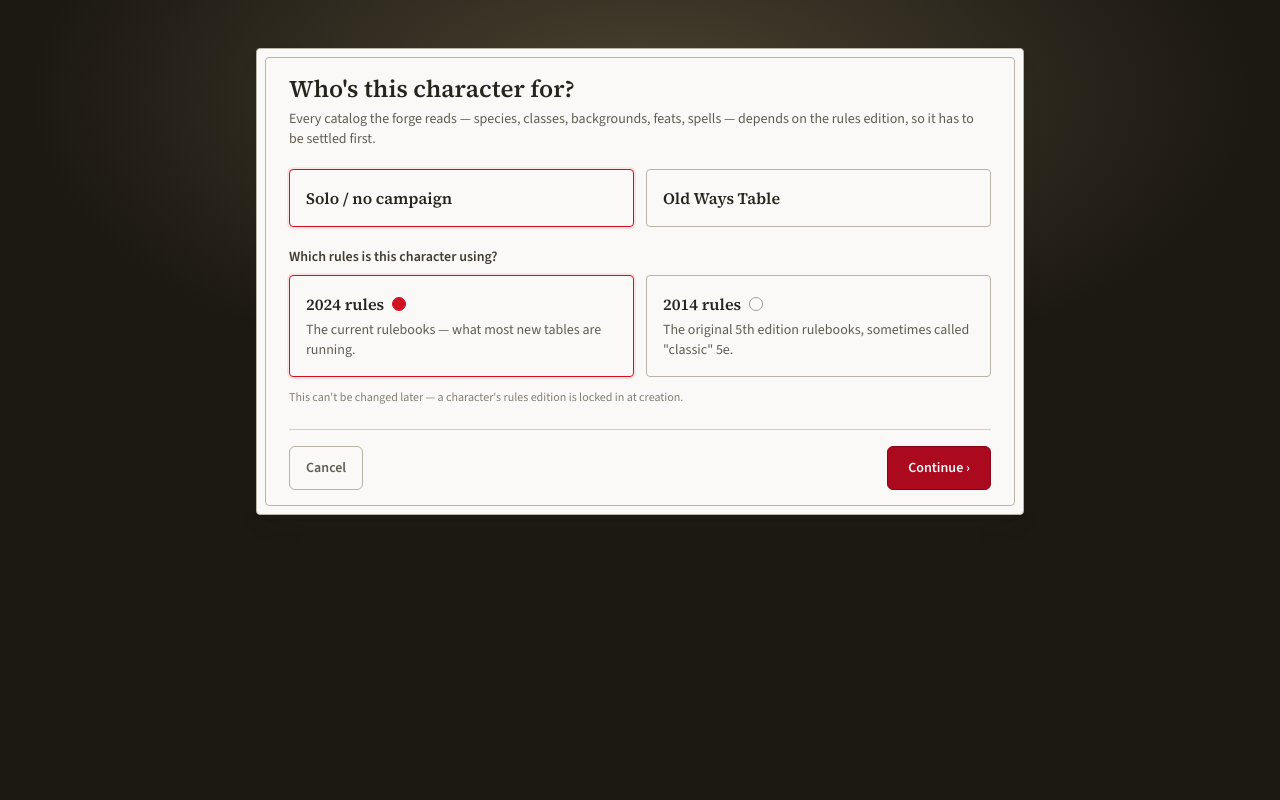
Scenario: CharacterCreatePage — subclass gate per edition (#1325) › offers a 2014 Cleric a subclass at creation
Click the radio button labelled "Old Ways Table": {"x": 722, "y": 198} [646, 169, 991, 227]
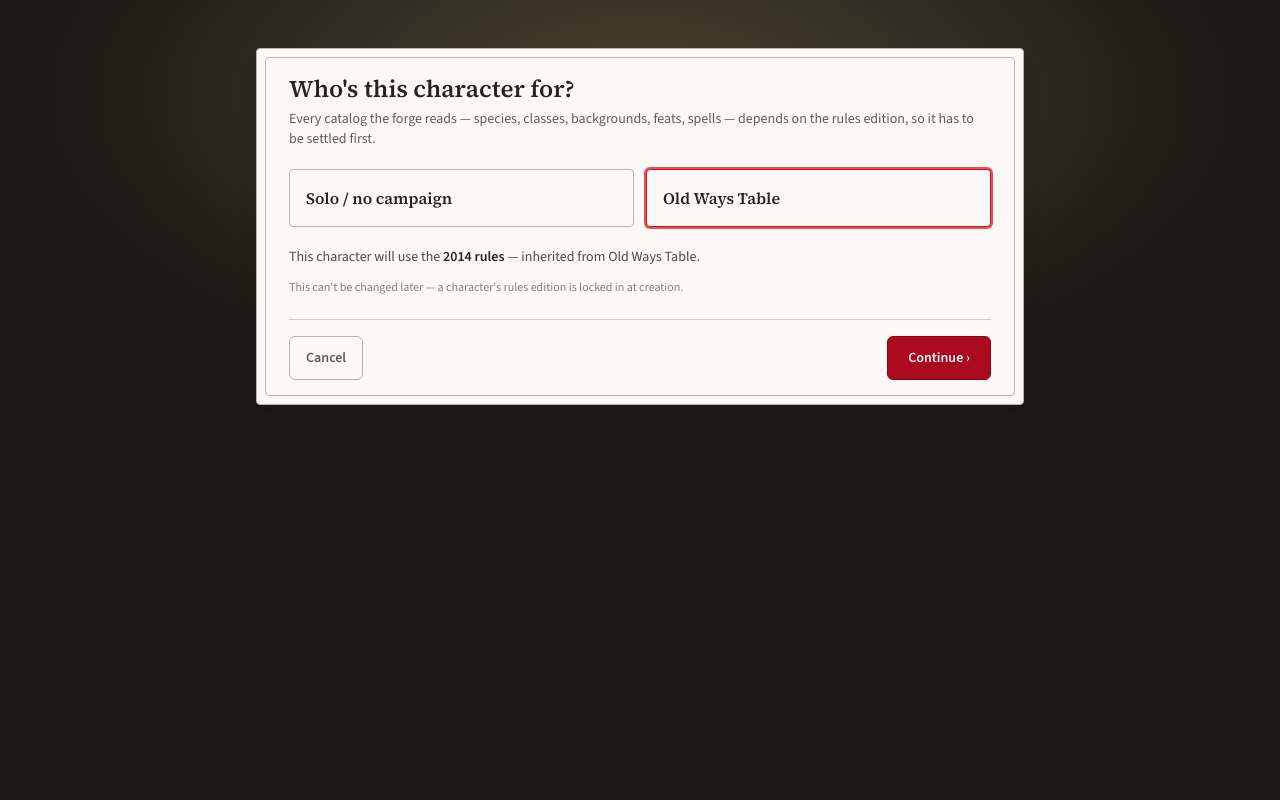
Click the button "Continue ›": {"x": 939, "y": 358} [887, 336, 991, 380]
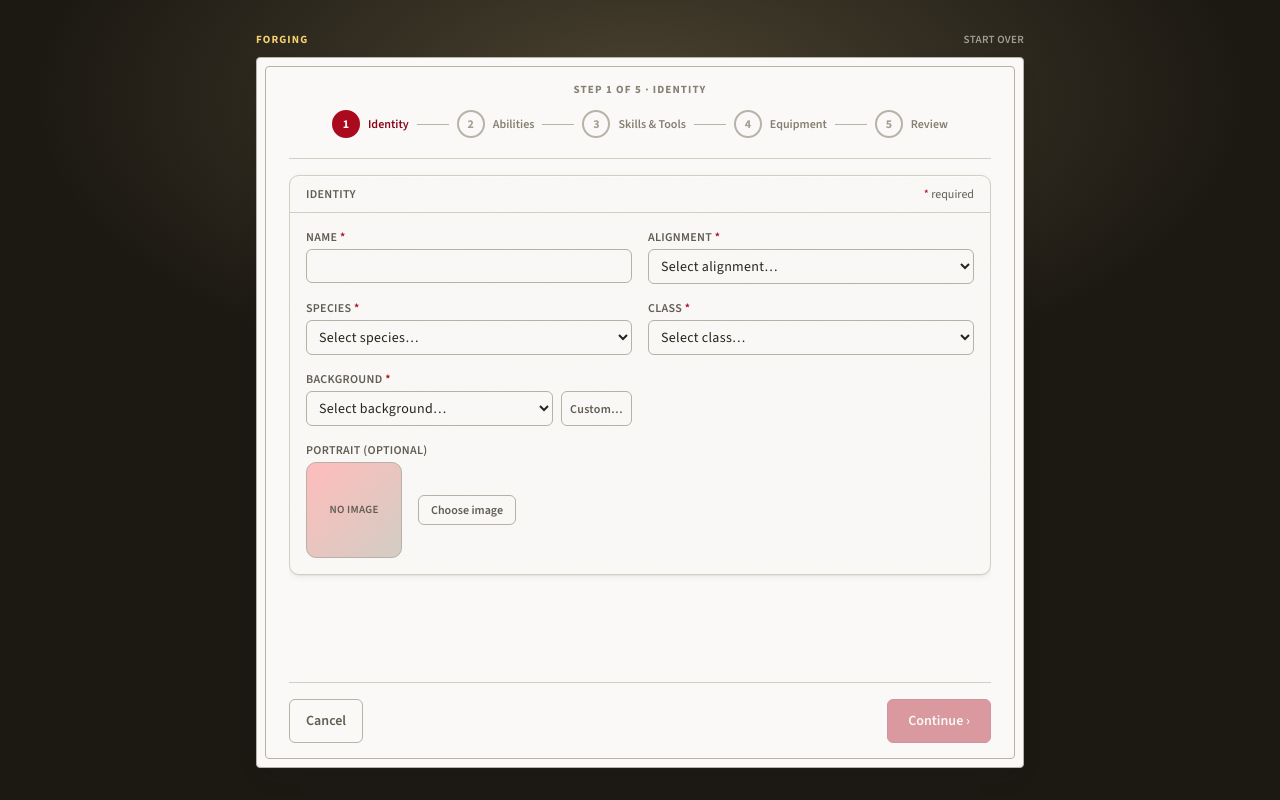
Select "Cleric" in the dropdown labelled "Class *": {"x": 811, "y": 338} [648, 320, 974, 355]
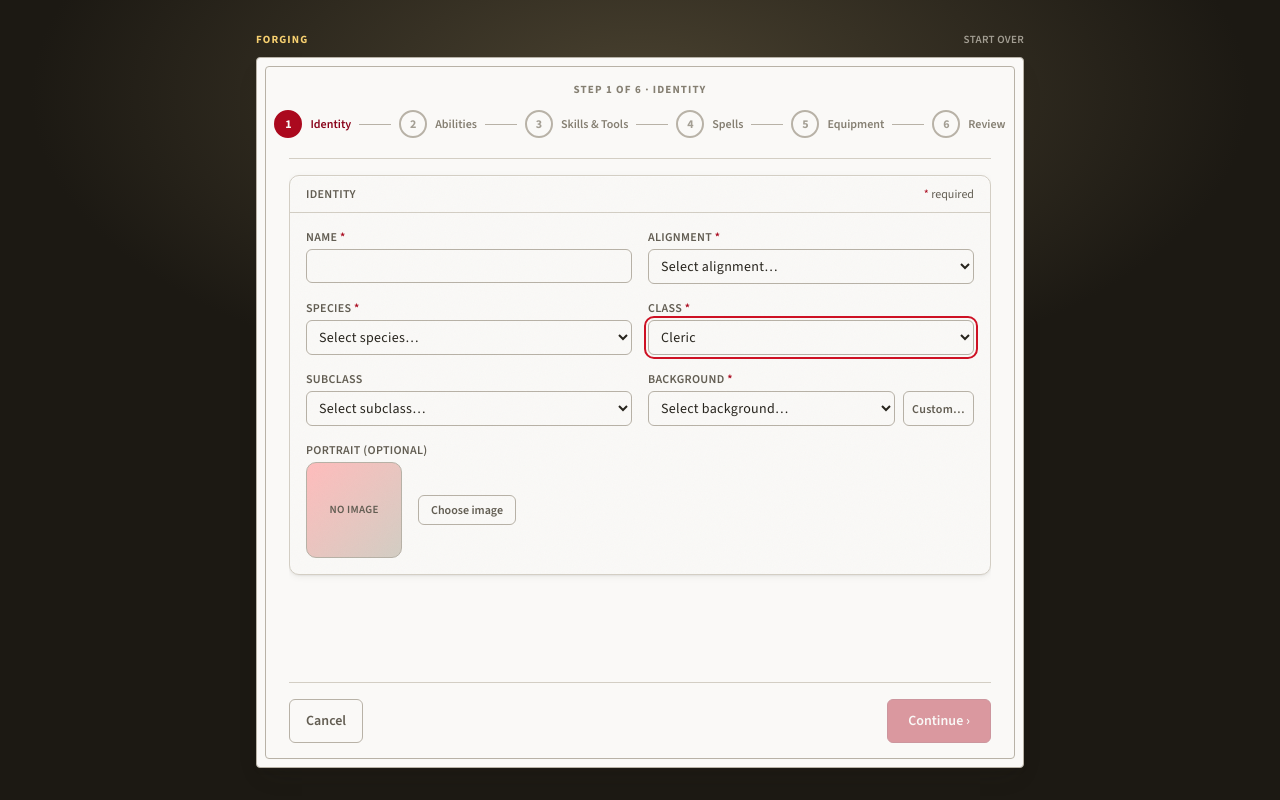
Now the dropdown labelled "Subclass" is shown, box [306, 391, 632, 426]
